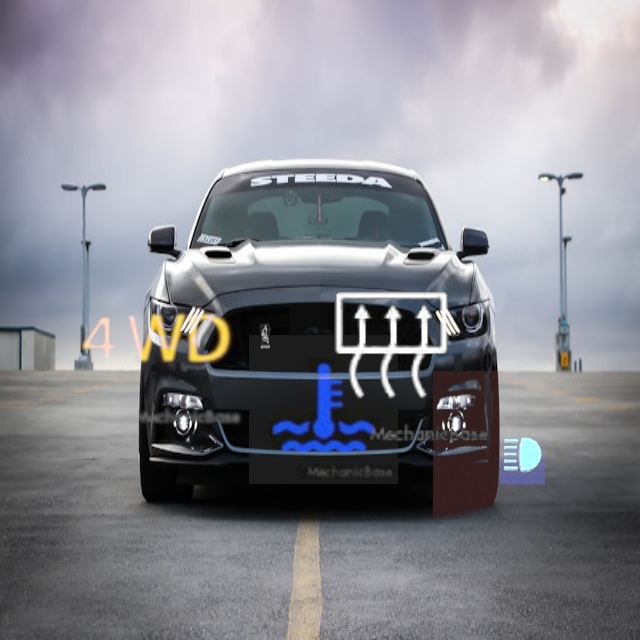symbol: (289, 244, 496, 451), (63, 248, 247, 432), (433, 371, 613, 551), (249, 335, 398, 484)
